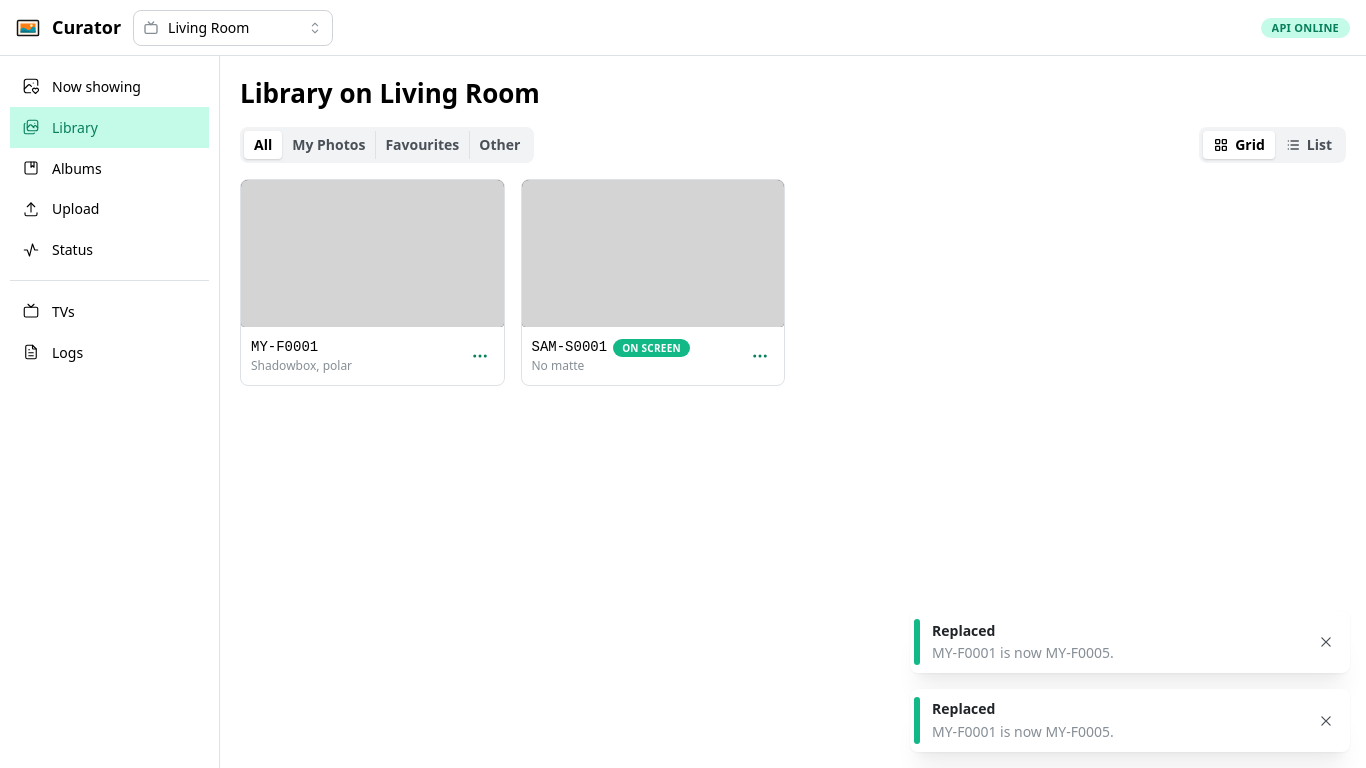
library › offers no delete for a piece that isn’t an upload
Click the button named "Actions for SAM-S0001" at (760, 356), box [746,342,774,370]
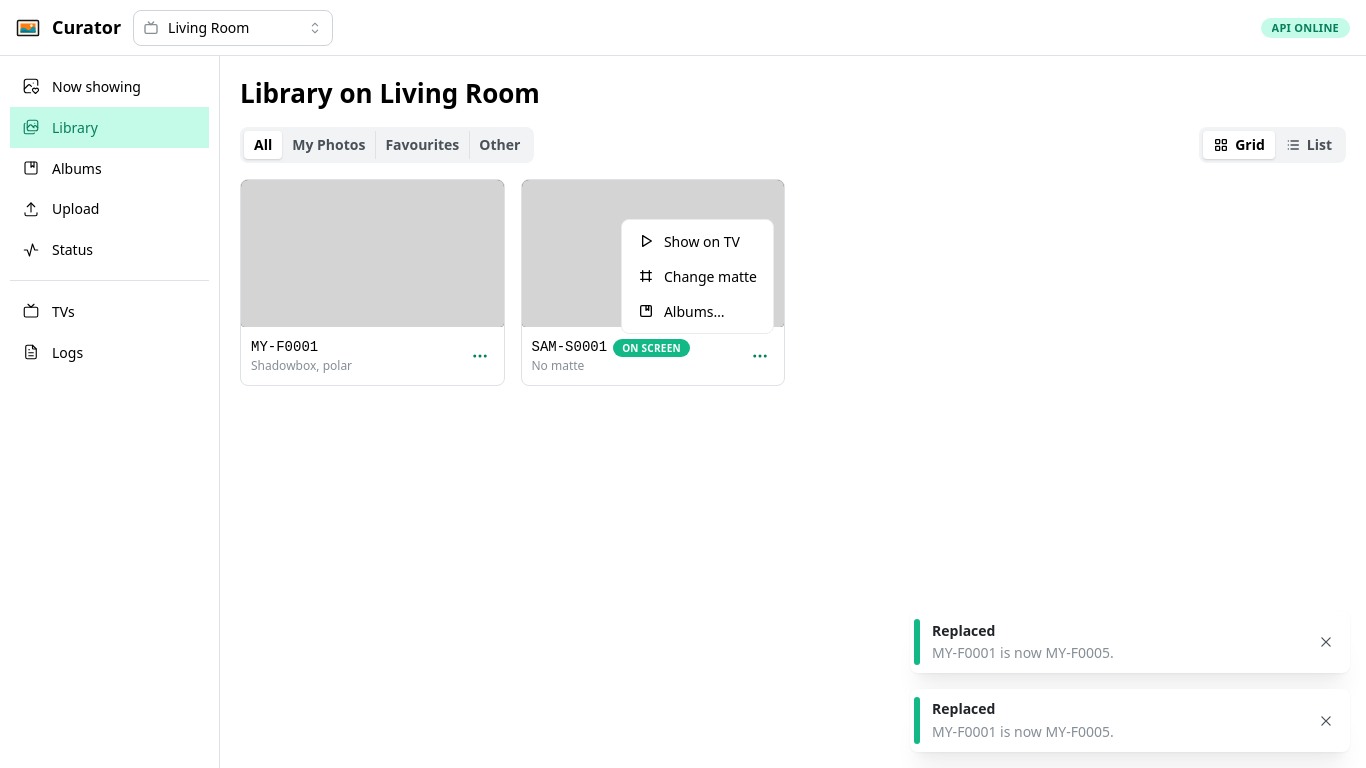
Now the menu item "Show on TV" is shown, box [626,224,769,259]
